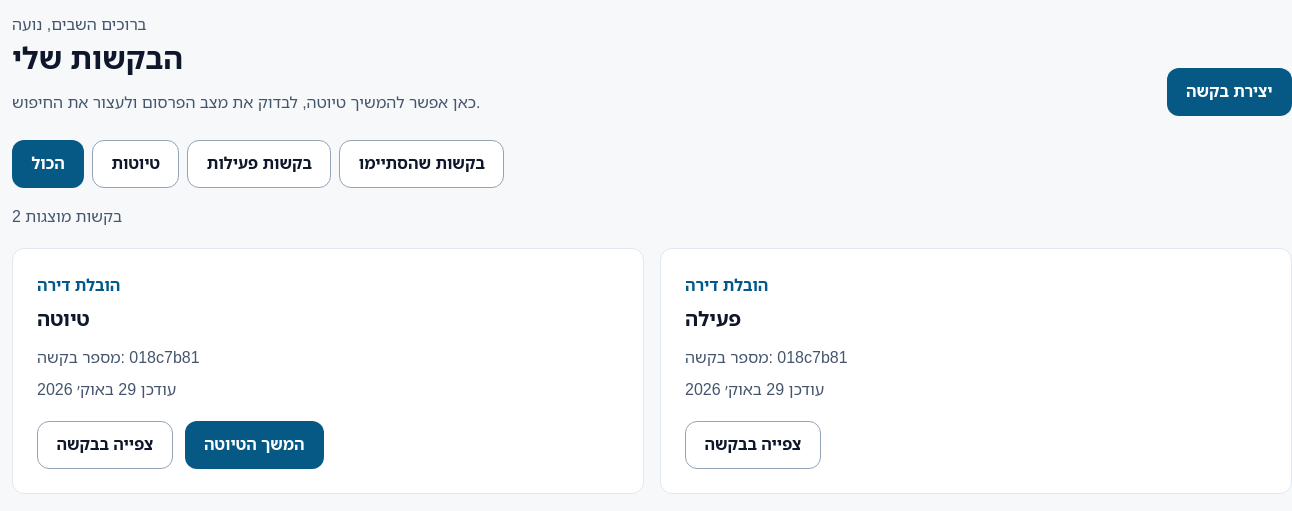
Test case: owner links open real details and resume exact draft; filters reset
This screenshot has width=1292, height=511.
Step 1. Click the button "בקשות פעילות" → (259, 164), box [188,140,331,188]
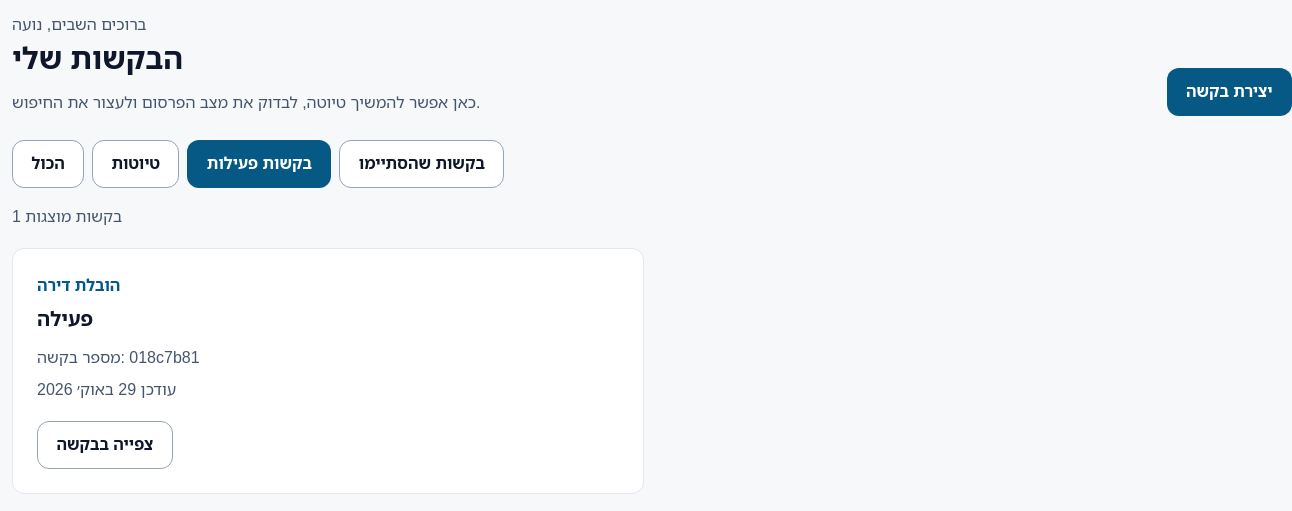
Check: the link "המשך הטיוטה" is gone
Step 2. Click the button "בקשות שהסתיימו" → (422, 164), box [339,140,504,188]
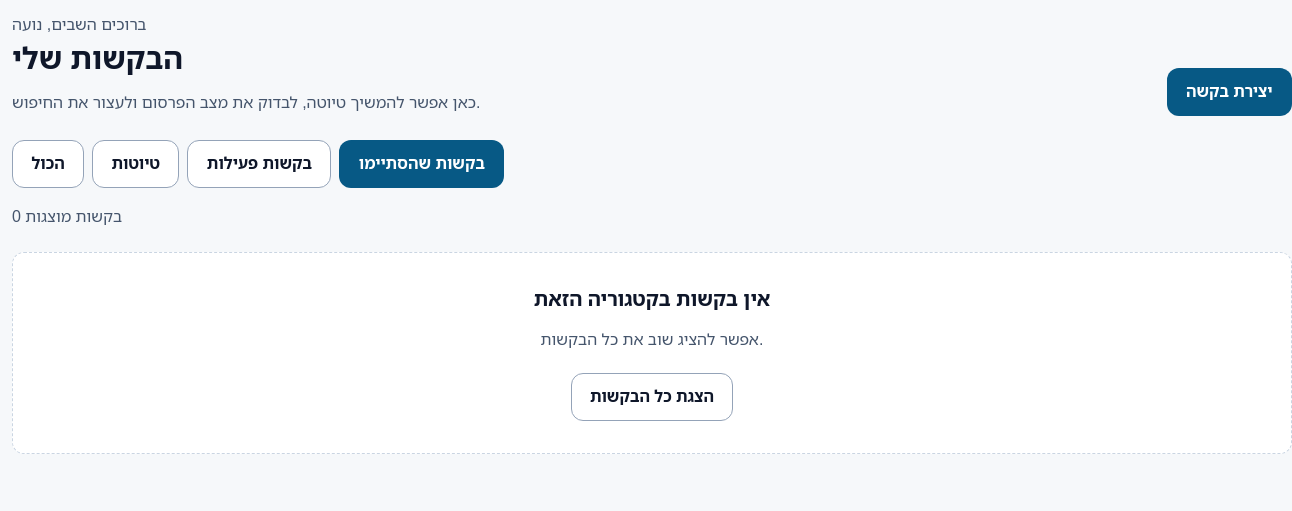
Check: the heading "אין בקשות בקטגוריה הזאת" is shown, box [534,285,770,312]
Step 3. Click the button "הצגת כל הבקשות" → (652, 397), box [570,373,734,421]
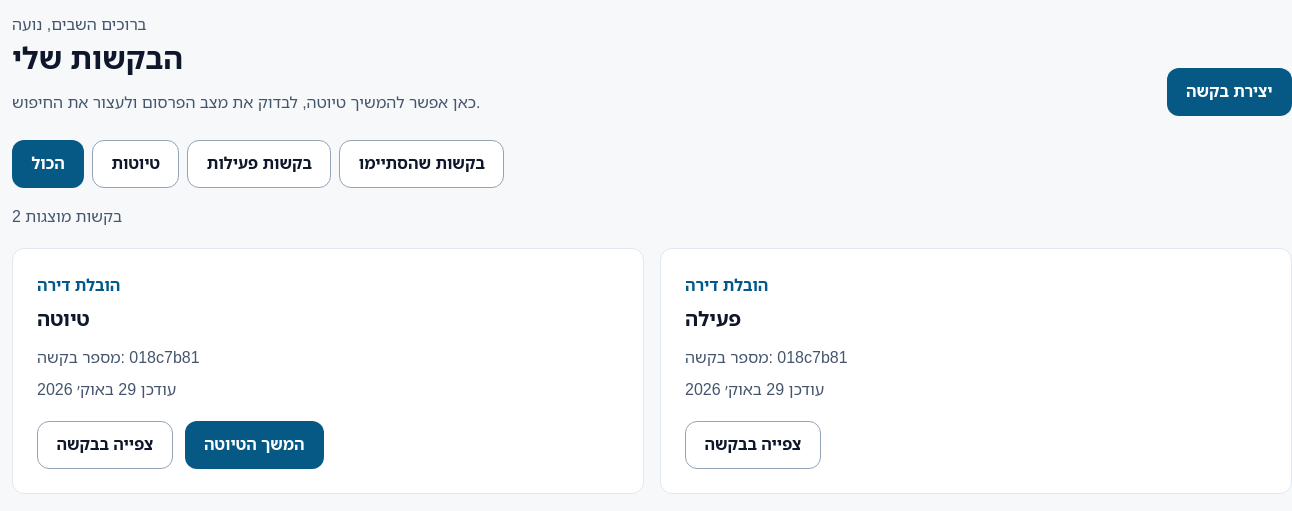
Check: the number of links "צפייה בבקשה" is 2, box [37,421,173,469]; [685,421,821,469]
